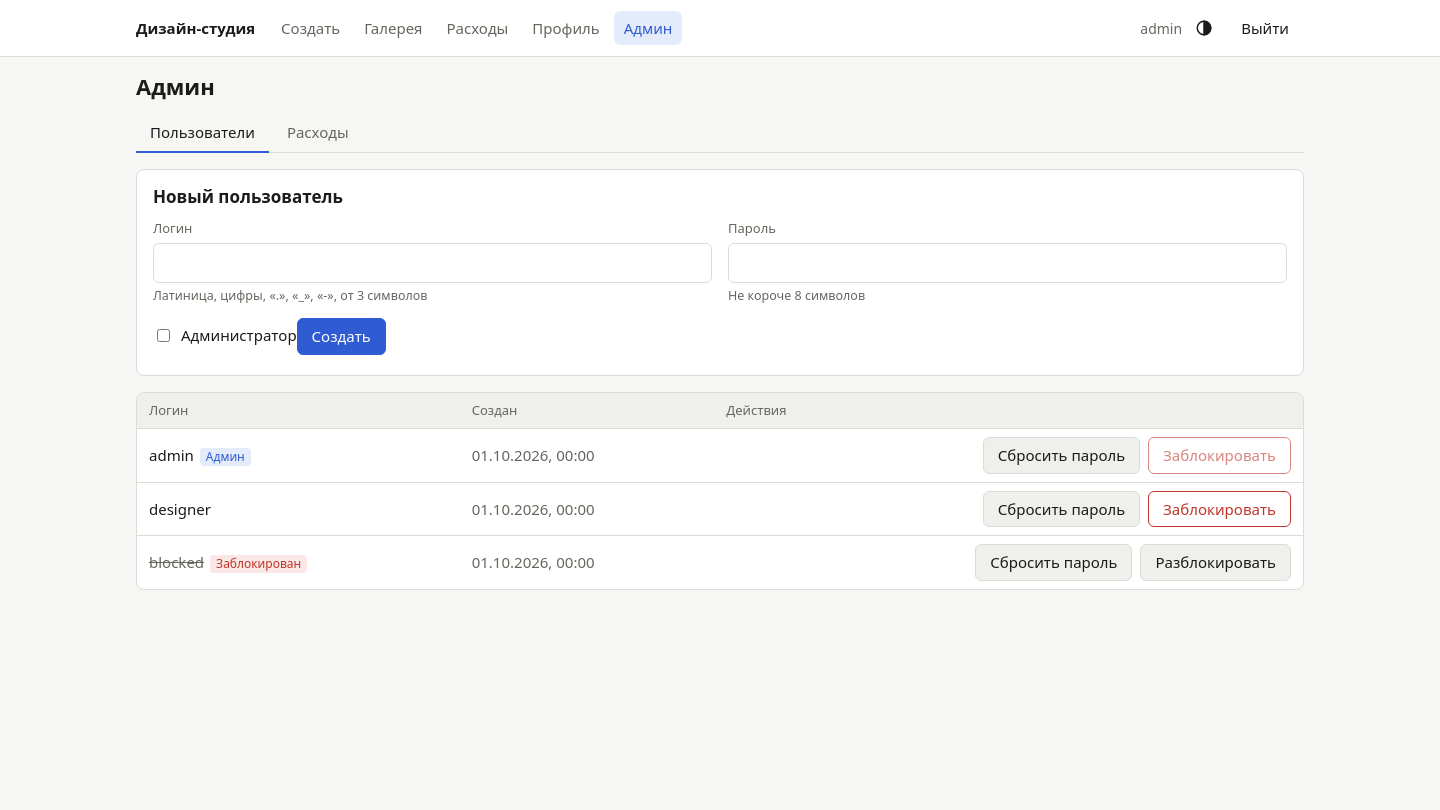
Scenario: T14 · 1: создание пользователя › новый пользователь появляется в таблице, форма очищается
This screenshot has width=1440, height=810.
Type "new.user_1" into the field with id "new-username" at (432, 263), box [153,243,712,283]
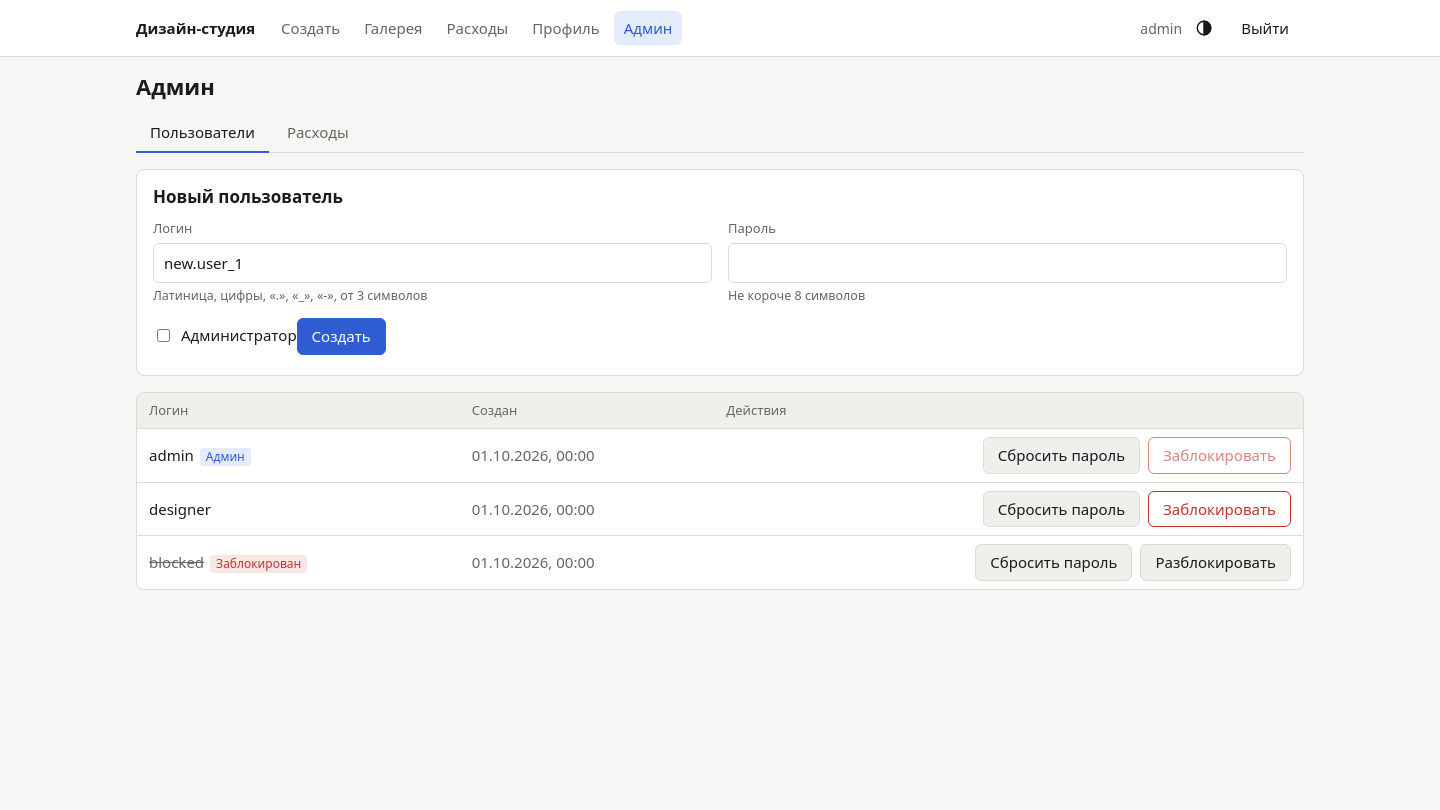
Type "password123" into the password field with id "new-password" at (1008, 263), box [728,243,1287,283]
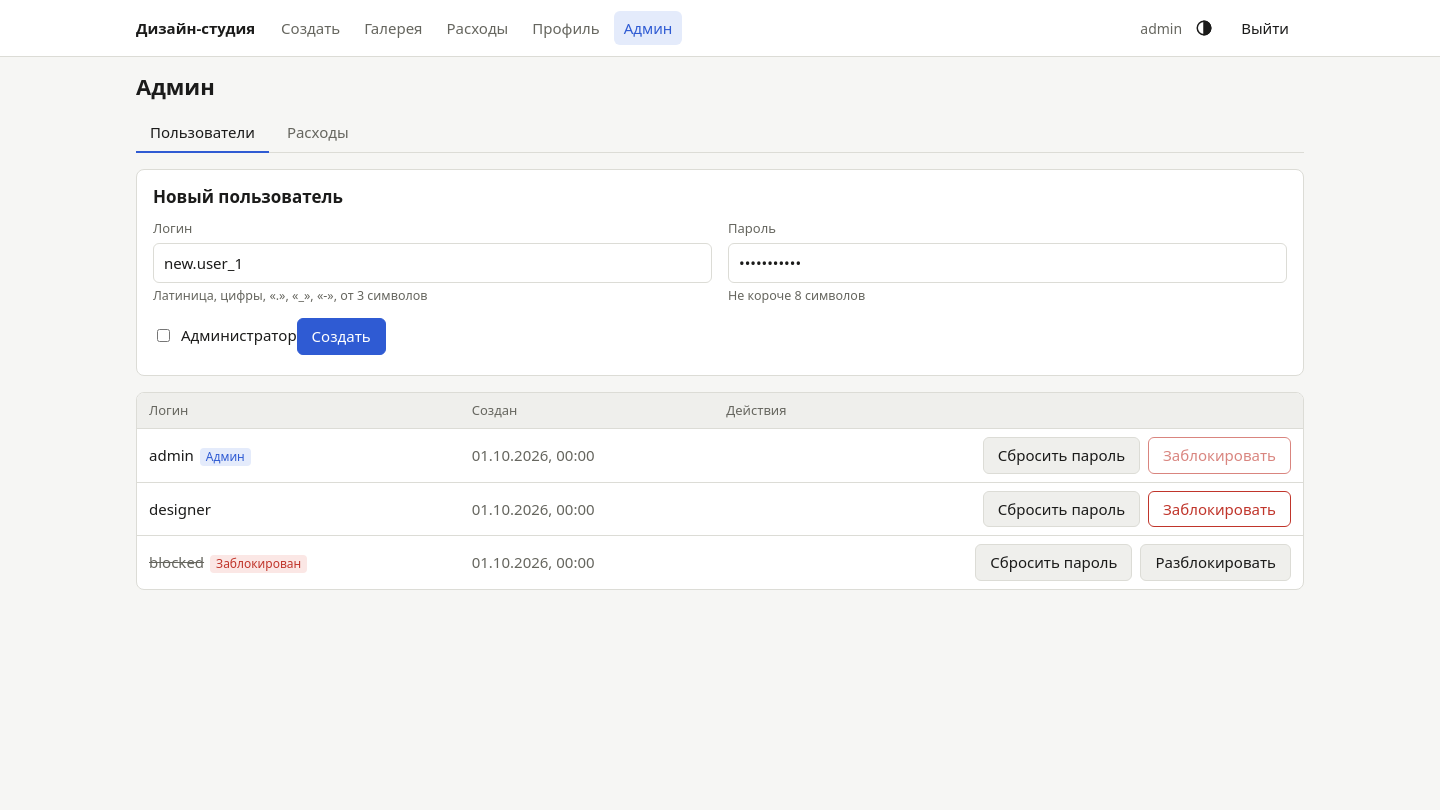
Submit the form with test id "create-form", box [136,169,1304,376]
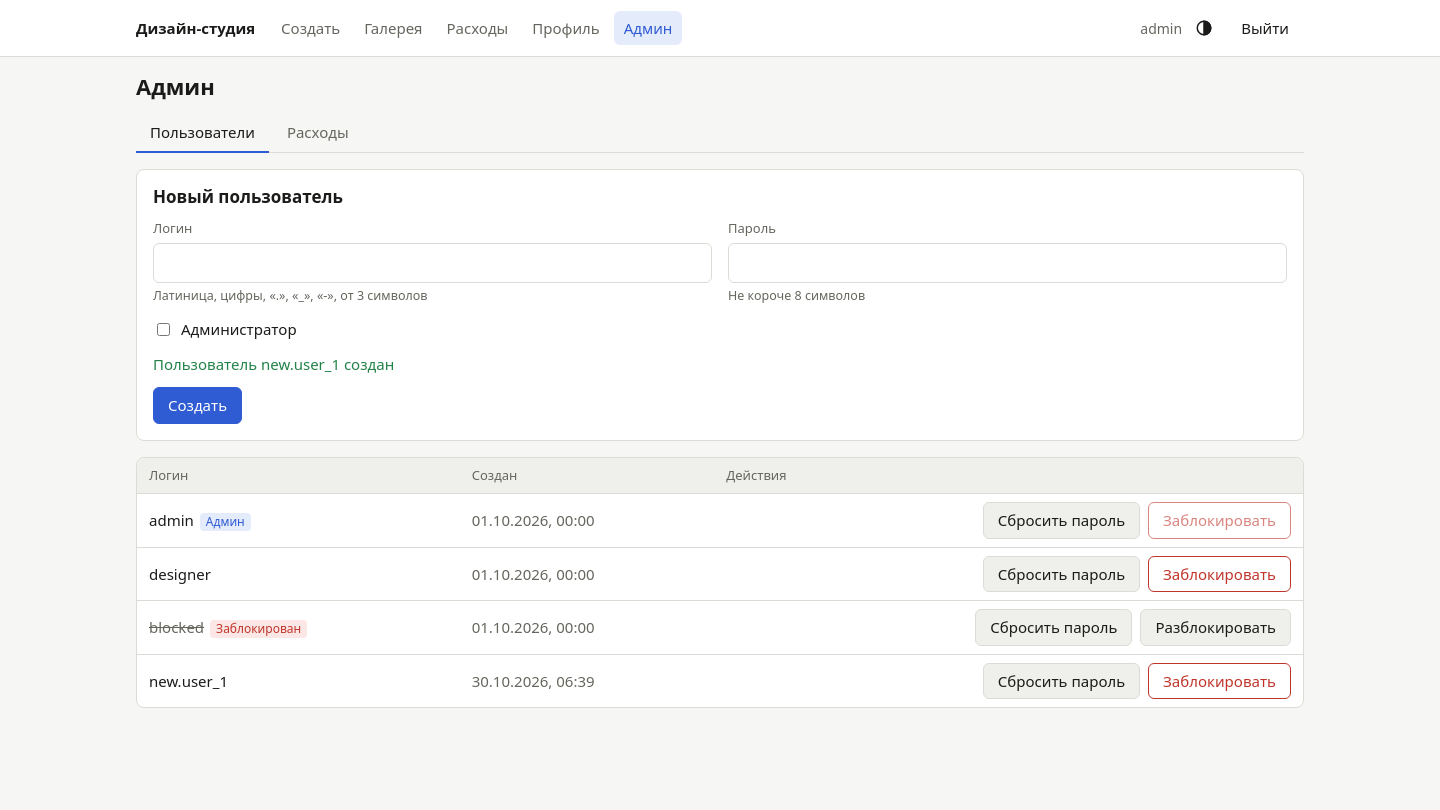
Expected: the row with test id "user-row" that starts with "new.user_1" is shown, [137,654,1303,707]
Expected: the field with id "new-username" is empty, [153,243,712,283]
Expected: the password field with id "new-password" is empty, [728,243,1287,283]
